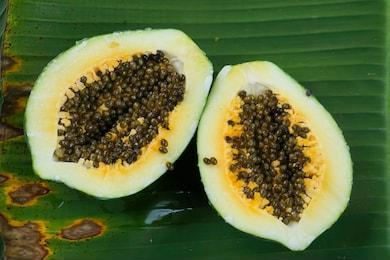papaya: (23, 26, 213, 203), (197, 60, 354, 252)
